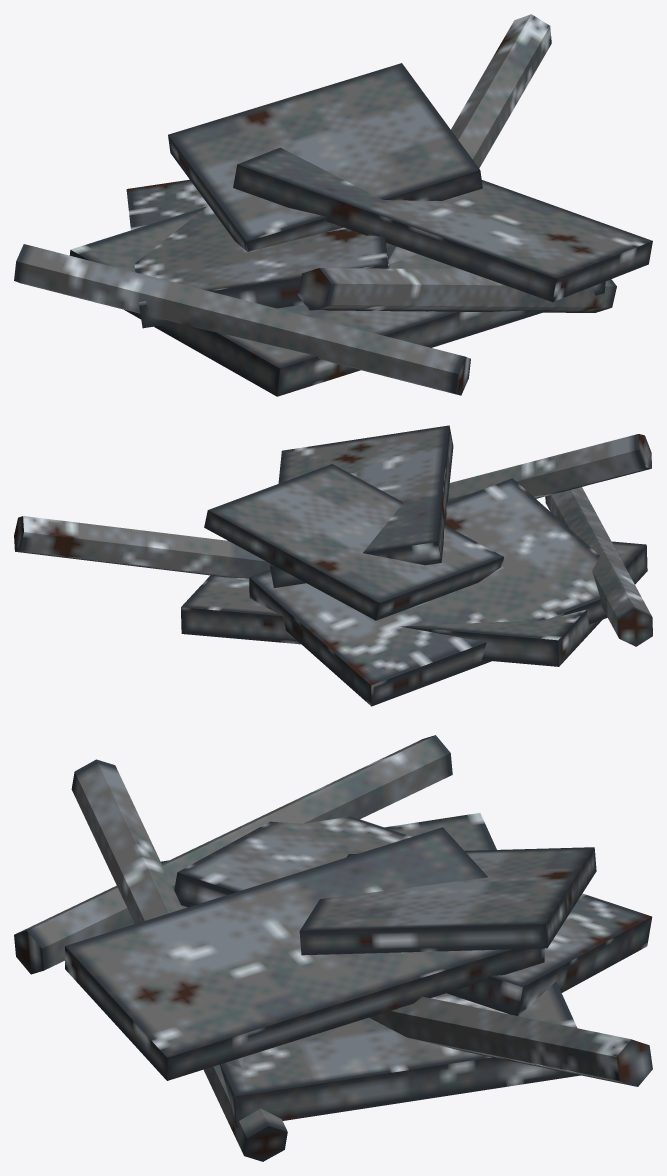
Rendered from SM_Scrap_Pile_01.fbx.
3 views of the same model, one above another, from view 1: azimuth 30°, elevation 25°; view 2: azimuth 150°, elevation 25°; view 3: azimuth 270°, elevation 25° (orthographic). The views are drawn at different scales.
Parts seen in each view (by area): view 1: SM_Scrap_Pile_01; view 2: SM_Scrap_Pile_01; view 3: SM_Scrap_Pile_01.
Boxes of the visible parts, box(x1,y1,x2,y2) form: SM_Scrap_Pile_01: box(14, 14, 652, 396); SM_Scrap_Pile_01: box(14, 425, 652, 706); SM_Scrap_Pile_01: box(14, 735, 652, 1161).
Bounding box in the file's own units: 0.457 × 0.1289 × 0.3572.
Materials: 1 (1 with a texture image).
